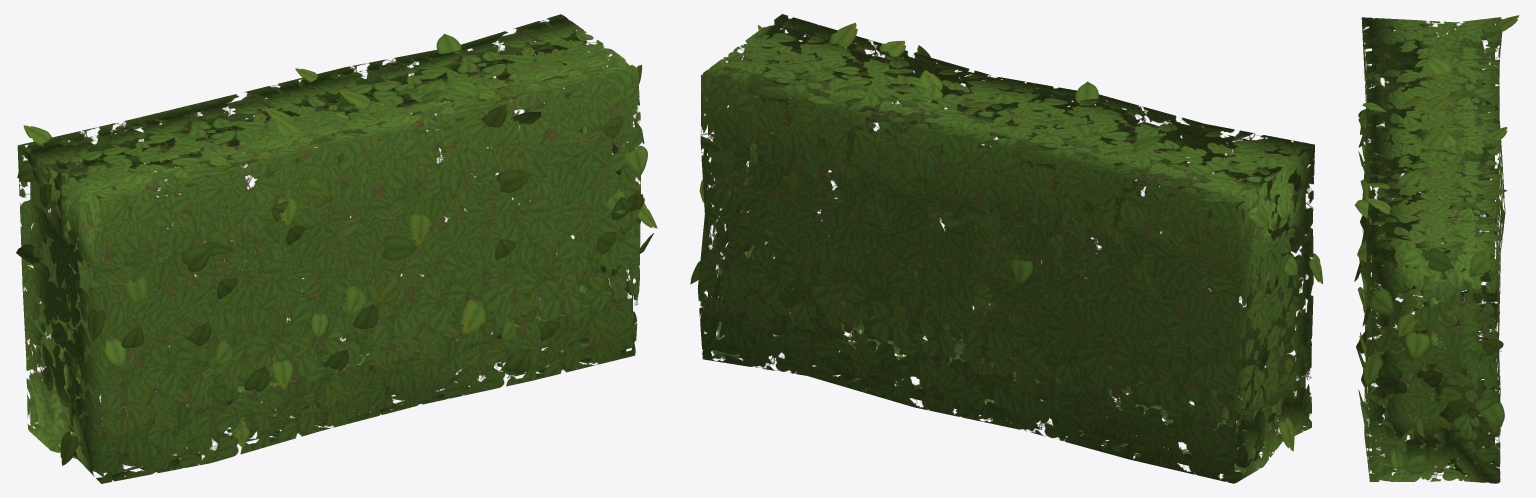
The model's file is haie-large.glb.
3 views of the same model, side by side, from view 1: azimuth 30°, elevation 25°; view 2: azimuth 150°, elevation 25°; view 3: azimuth 270°, elevation 25° (orthographic). The views are drawn at different scales.
Parts seen in each view (by area): view 1: TileExample Large_ShrubFenceLarge_mat_0, TileExample Large_Single Large_0; view 2: TileExample Large_ShrubFenceLarge_mat_0, TileExample Large_Single Large_0; view 3: TileExample Large_ShrubFenceLarge_mat_0, TileExample Large_Single Large_0.
Part boxes in pixels (x1,y1,x2,y2): TileExample Large_ShrubFenceLarge_mat_0: (17,14,641,483); TileExample Large_Single Large_0: (16,33,657,465); TileExample Large_ShrubFenceLarge_mat_0: (697,14,1314,483); TileExample Large_Single Large_0: (690,22,1322,451); TileExample Large_ShrubFenceLarge_mat_0: (1361,17,1505,483); TileExample Large_Single Large_0: (1354,15,1519,473).
Size of the model in its own units: 4.25 by 2.13 by 1.28.
2 materials, 2 textured.
